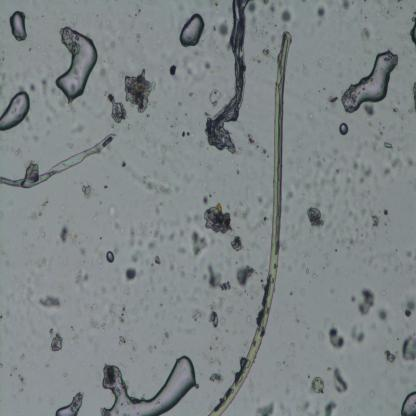Air bubble: (100, 354, 196, 416), (342, 51, 399, 115), (57, 27, 98, 103), (0, 90, 30, 132), (179, 12, 205, 48), (54, 391, 84, 415), (10, 12, 28, 40), (399, 391, 416, 415), (104, 249, 116, 264), (339, 123, 349, 136)
Background material: (284, 141, 342, 202), (18, 242, 45, 310), (81, 290, 111, 350), (94, 19, 122, 78), (123, 68, 156, 112), (132, 170, 173, 198), (5, 345, 26, 394), (336, 216, 367, 249), (42, 102, 74, 133), (204, 204, 236, 235), (382, 153, 416, 180), (126, 226, 146, 262), (206, 263, 231, 291), (142, 326, 170, 350), (105, 93, 127, 123), (248, 132, 270, 161), (302, 204, 326, 230), (390, 243, 416, 267), (232, 263, 256, 289), (397, 334, 416, 365), (150, 142, 171, 168), (358, 288, 376, 318), (190, 231, 210, 258), (28, 197, 51, 220), (357, 22, 378, 47), (166, 229, 184, 258), (108, 304, 128, 329), (144, 229, 165, 251), (351, 162, 371, 185), (332, 366, 349, 393), (48, 328, 65, 354), (170, 124, 196, 141), (122, 2, 146, 20), (107, 204, 121, 231), (38, 295, 63, 310), (73, 268, 89, 291), (348, 323, 366, 343), (401, 294, 416, 318), (329, 328, 344, 351), (309, 373, 325, 394), (208, 87, 223, 108), (407, 14, 416, 47), (257, 400, 276, 415), (58, 223, 71, 244), (124, 265, 139, 283), (208, 370, 226, 385), (208, 307, 220, 329), (230, 234, 244, 252), (215, 21, 231, 36), (80, 180, 93, 198), (280, 7, 294, 23), (362, 104, 376, 119), (340, 1, 354, 16), (410, 80, 416, 115), (323, 401, 337, 415), (369, 213, 380, 230), (378, 306, 389, 323), (380, 140, 394, 153), (384, 348, 395, 364), (347, 287, 356, 306), (40, 79, 49, 98), (315, 6, 328, 19), (262, 44, 273, 59), (192, 309, 203, 323), (246, 2, 258, 14), (116, 334, 126, 348), (78, 247, 89, 258), (153, 254, 163, 266), (327, 96, 339, 106), (169, 64, 178, 77), (381, 206, 390, 218), (119, 159, 128, 168), (202, 196, 210, 206), (262, 0, 274, 6)
Cellulose filter fibre: (205, 1, 253, 155), (0, 133, 117, 189)
Microfibre: (206, 31, 293, 415)
